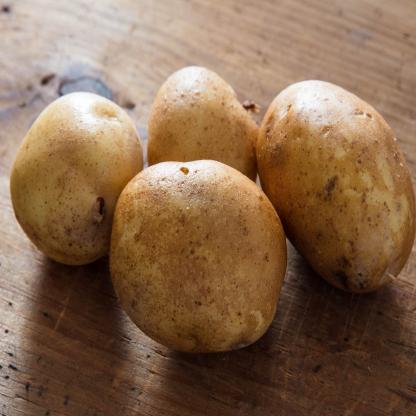--: (105, 155, 291, 358), (252, 75, 416, 299), (9, 89, 144, 274)
